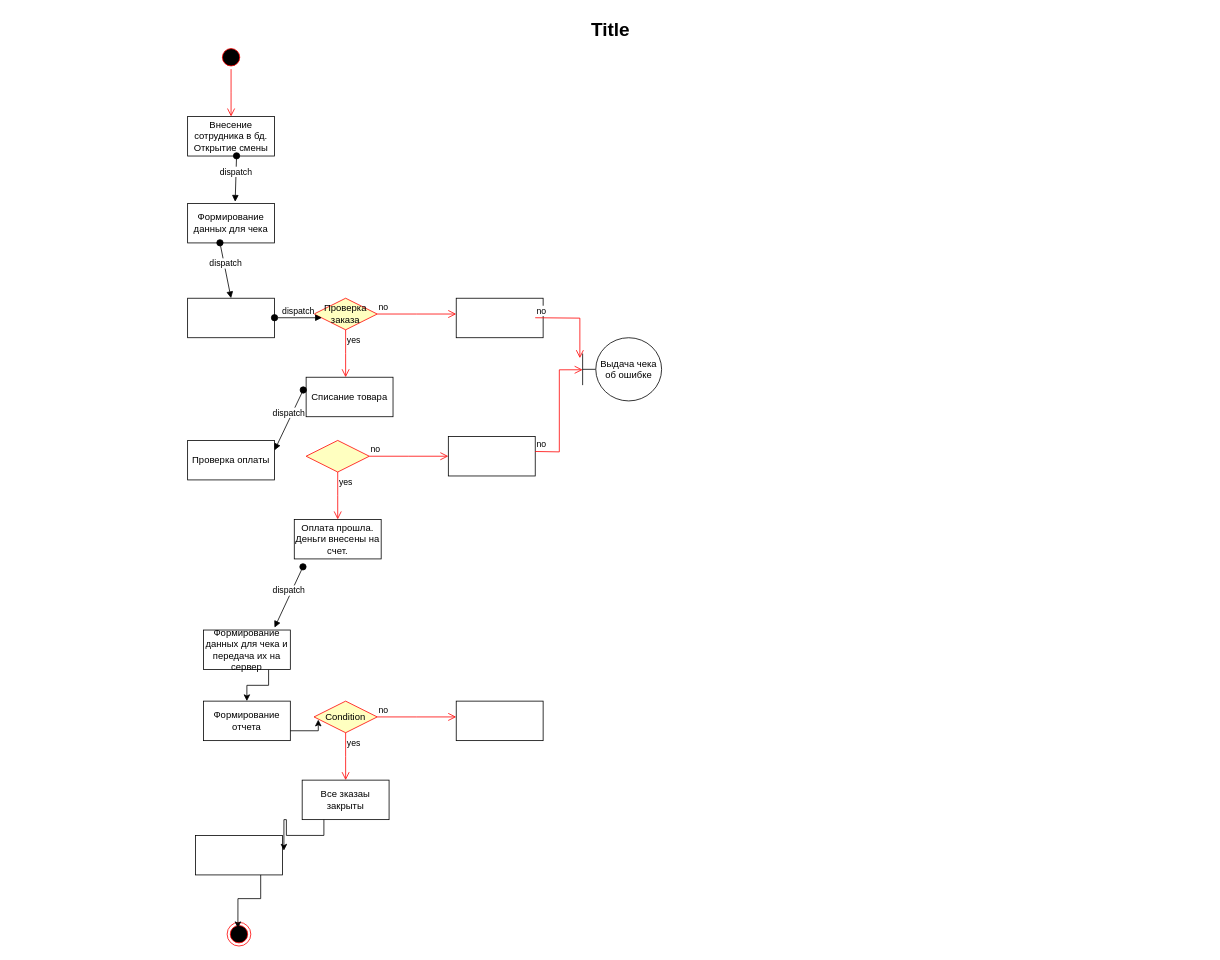
The diagram is 1220 pixels wide and 960 high, and some of its shapes have lost their labels. Here are the shapes that lost their labels. From the top down, the centre of each, then its label:
At (x=231, y=317): "Внесение заказа в кассу".
At (x=499, y=317): "Отмена заказа. Ничего не списывется".
At (x=337, y=456): "Прошла ли оплата".
At (x=491, y=456): "Оплата не прошла.".
At (x=499, y=720): "Есть незакрытые заказы".
At (x=238, y=855): "Формирование итогово отчета".
